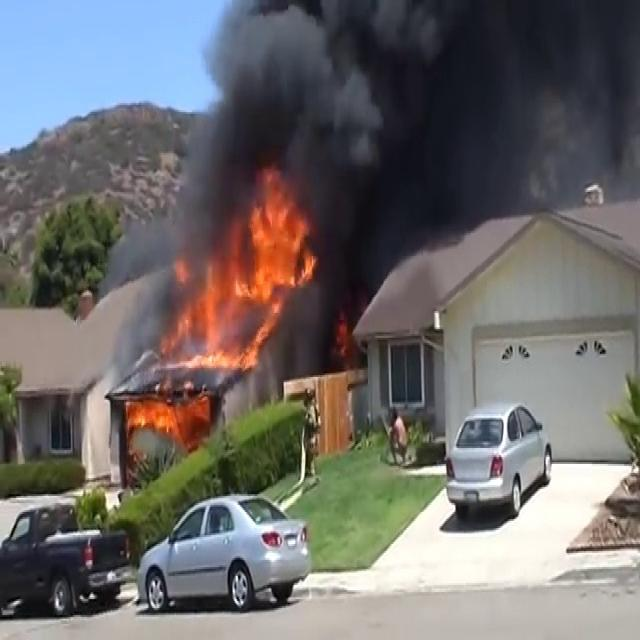Fire: (160, 174, 320, 375), (122, 384, 200, 452)
Smoke: (142, 0, 640, 267)
